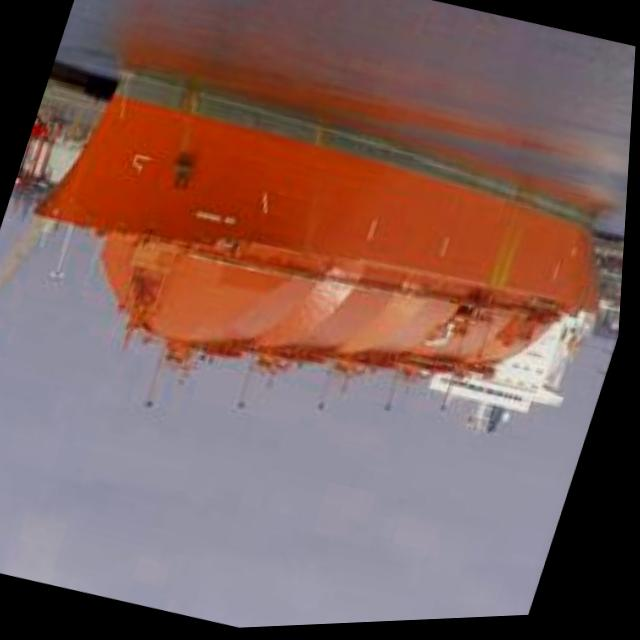ship2: (38, 67, 605, 437)
